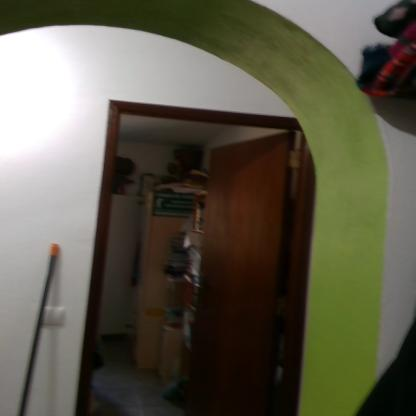open: (88, 78, 324, 414)
